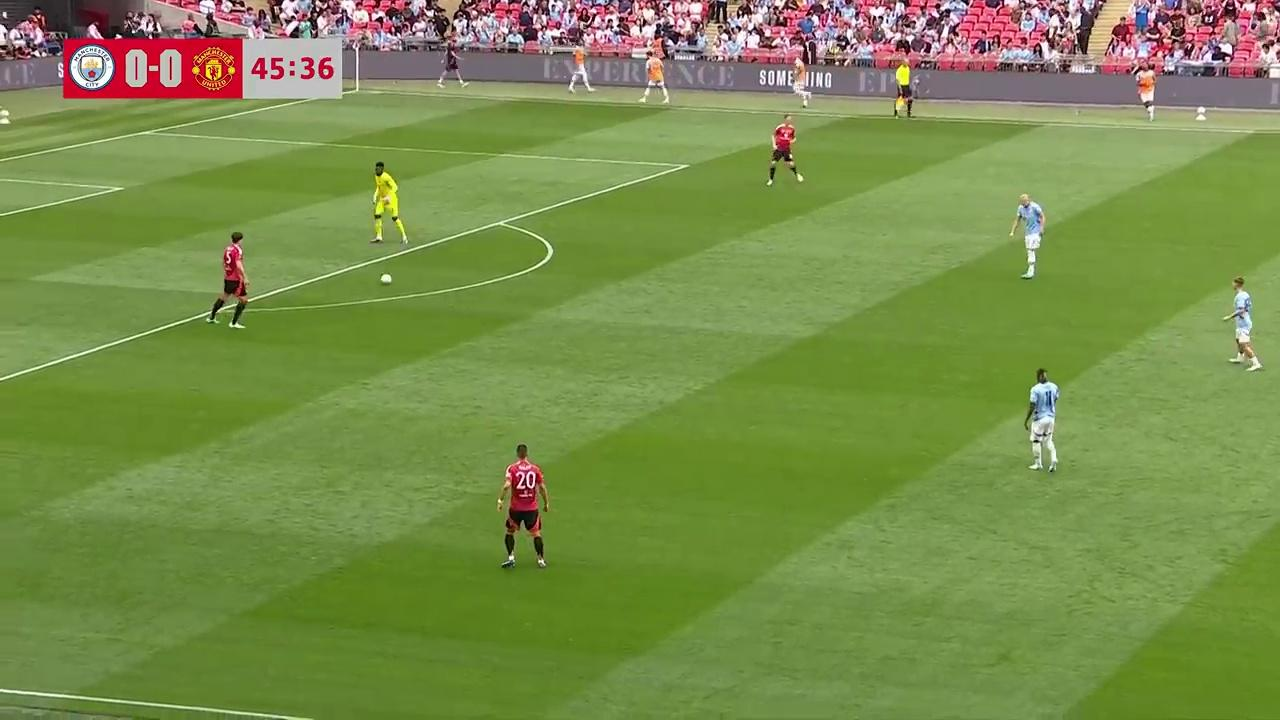ball: (379, 269, 394, 285)
player: (496, 442, 551, 570), (206, 231, 250, 327), (1024, 367, 1060, 472), (1222, 276, 1262, 369), (370, 162, 409, 246), (1010, 193, 1044, 275), (767, 115, 804, 186)
referee: (892, 64, 914, 120)
